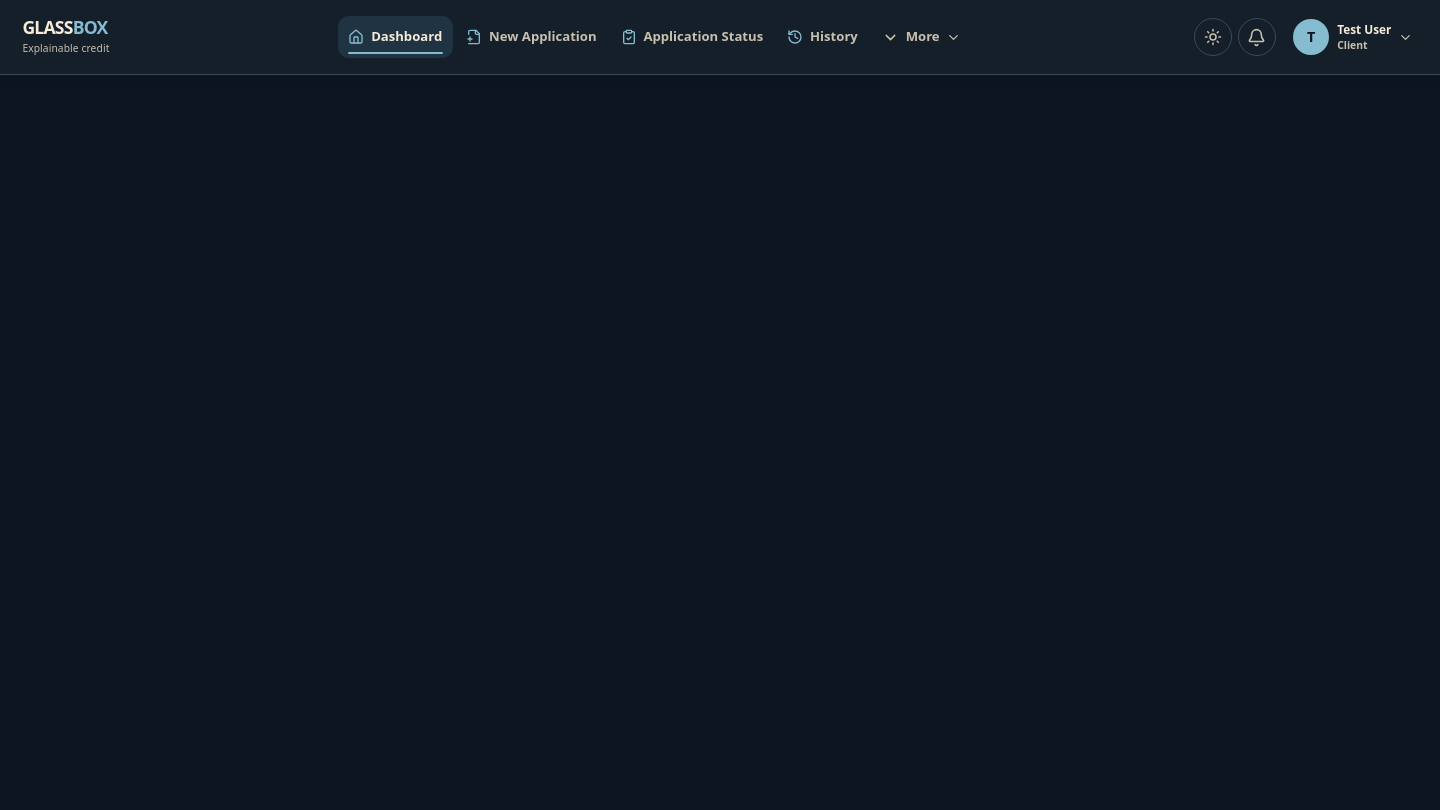
MainLayout dashboard chrome › opens and closes notifications by toggle and outside click
Click the button named "Notifications" at (1257, 37), box [1238,18,1276,56]
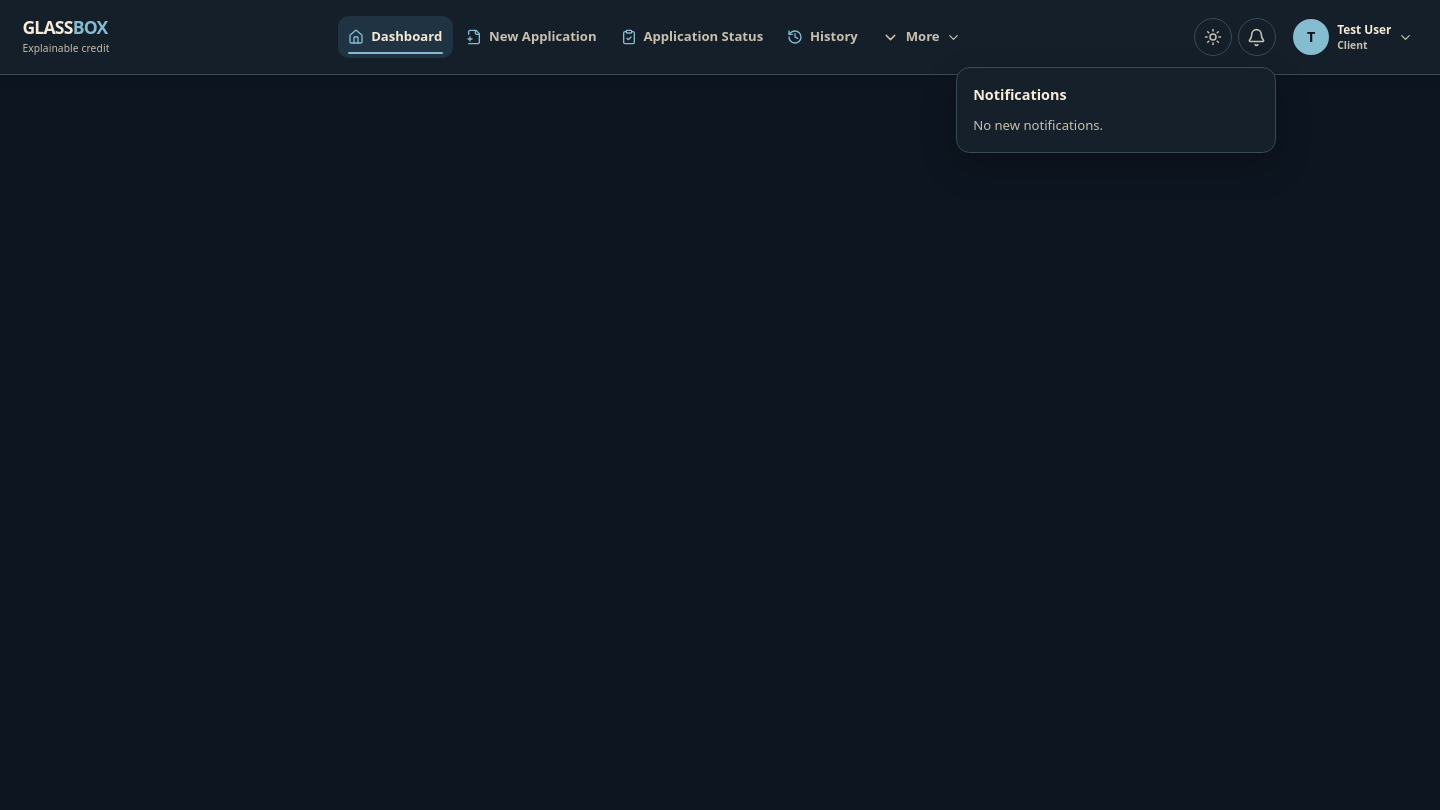
expect the dialog "Notifications" shows "No new notifications.": met, box [973,116,1103,134]
Click the button named "Notifications" at (1257, 37), box [1238,18,1276,56]
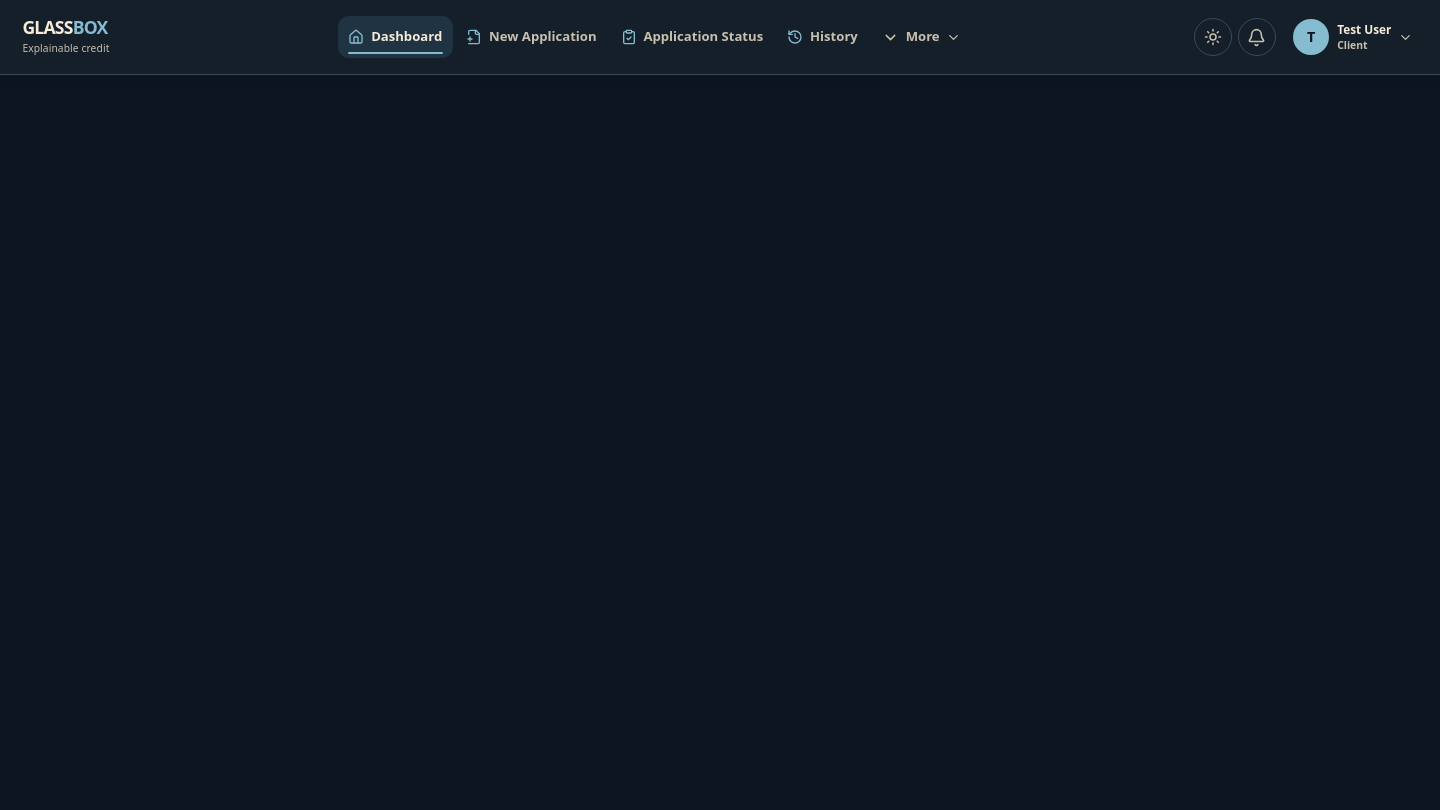
expect the heading "Notifications" is gone: met
Click the button named "Notifications" at (1257, 37), box [1238,18,1276,56]
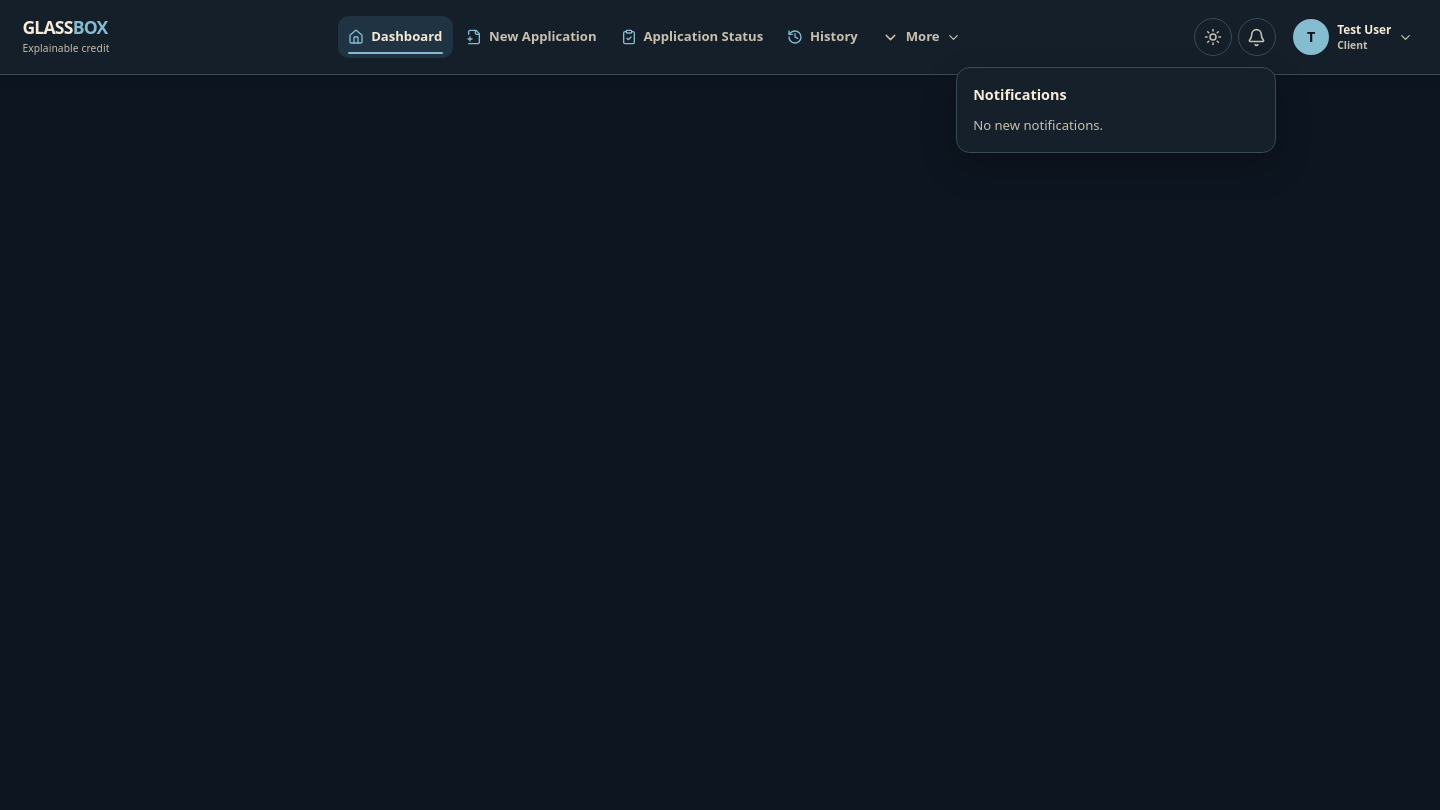
expect the dialog "Notifications" is shown: met, box [956,67,1276,153]
Press the mouse on the element that starts with "GLASS" at (720, 405), box [0,0,1439,809]
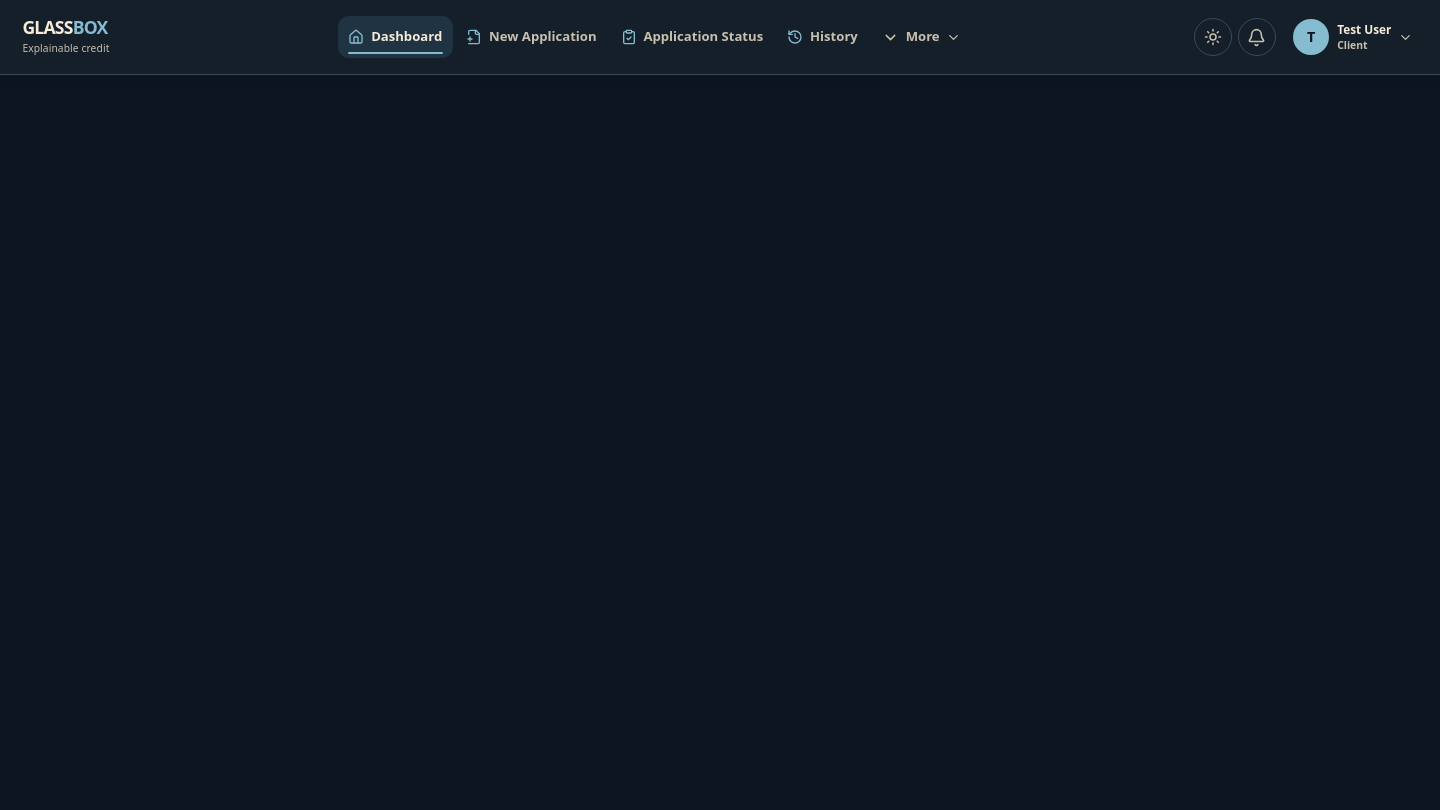
expect the heading "Notifications" is gone: met
